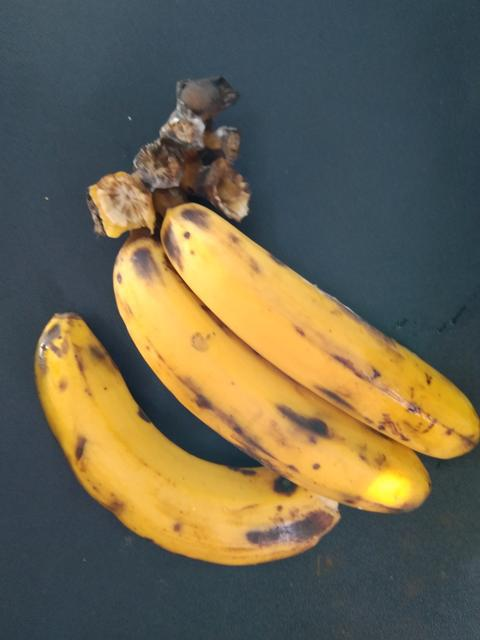overripe: (159, 197, 479, 471), (125, 233, 425, 513), (36, 313, 353, 572)
